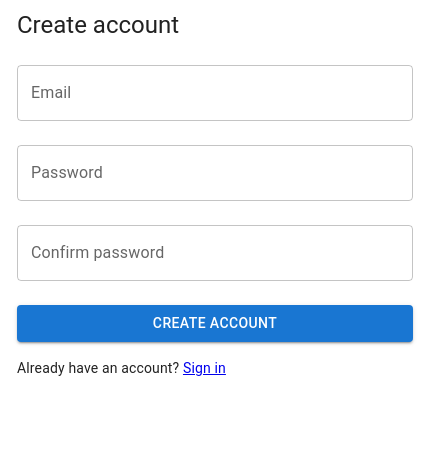
Register › shows the server-provided message when registration fails
The image size is (431, 457).
In the field labelled "Email": (215, 93) [17,65,413,121], type "taken@example.com"
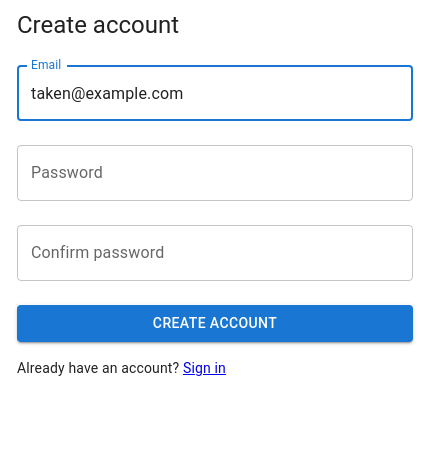
In the password field labelled "Password": (215, 173) [17,145,413,201], type "password123"
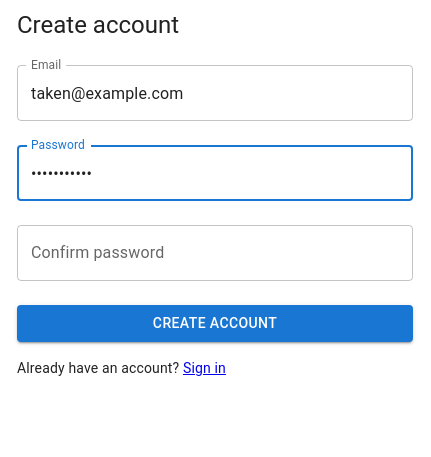
In the password field labelled "Confirm password": (215, 253) [17,225,413,281], type "password123"
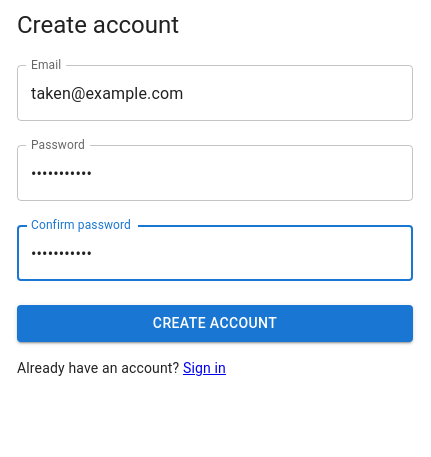
Click the button "Create account": click(215, 324) [17,305,413,342]
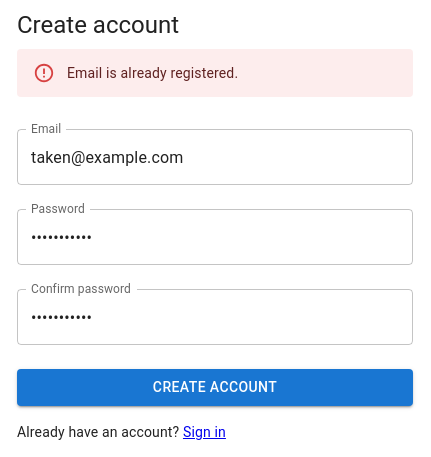
Check: the message reads "Email is already registered.", box [67,65,238,81]
